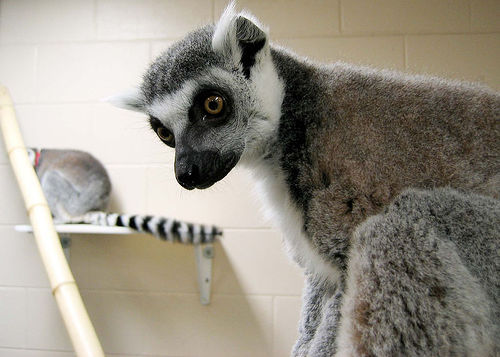cat: (123, 0, 499, 353), (23, 144, 225, 251)
